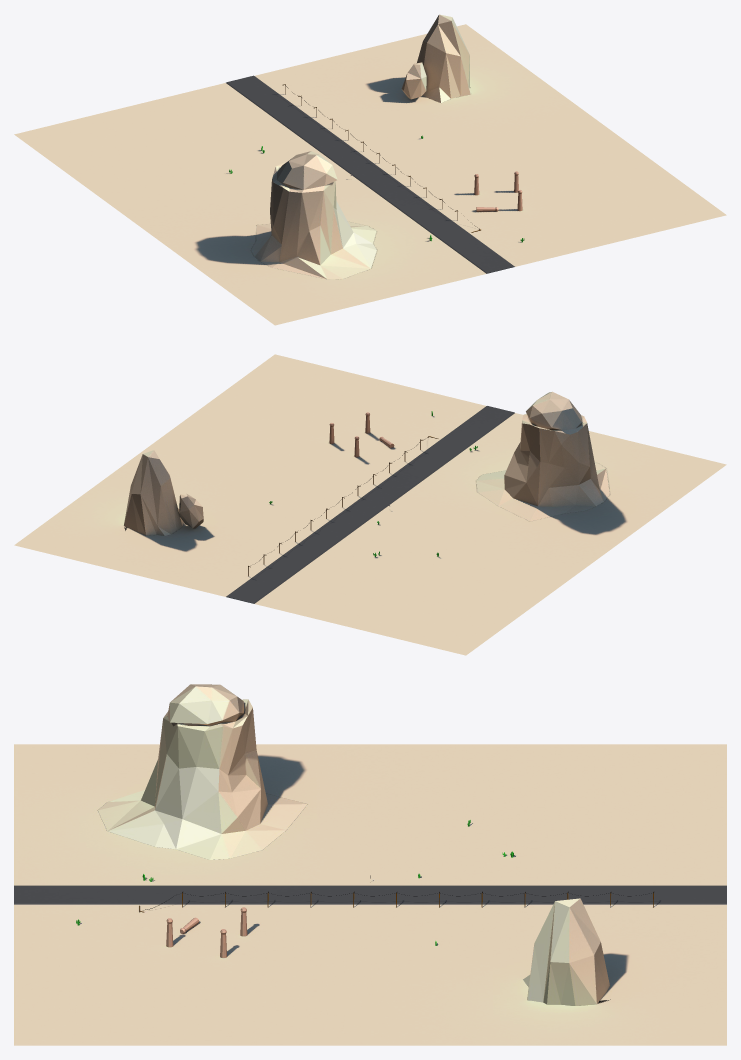
File: GHL_Module2.fbx
3 views of the same model, one above another, from view 1: azimuth 30°, elevation 25°; view 2: azimuth 150°, elevation 25°; view 3: azimuth 270°, elevation 25° (orthographic). The views are drawn at different scales.
Visible parts, largest first — view 1: module2; view 2: module2; view 3: module2.
Boxes of the visible parts, x1,y1,x2,y2 form: module2: (14,14,726,325); module2: (14,354,726,655); module2: (14,684,726,1045).
Size of the model in its own units: 1200 by 243 by 1200.
Materials: 1 (1 with a texture image).
